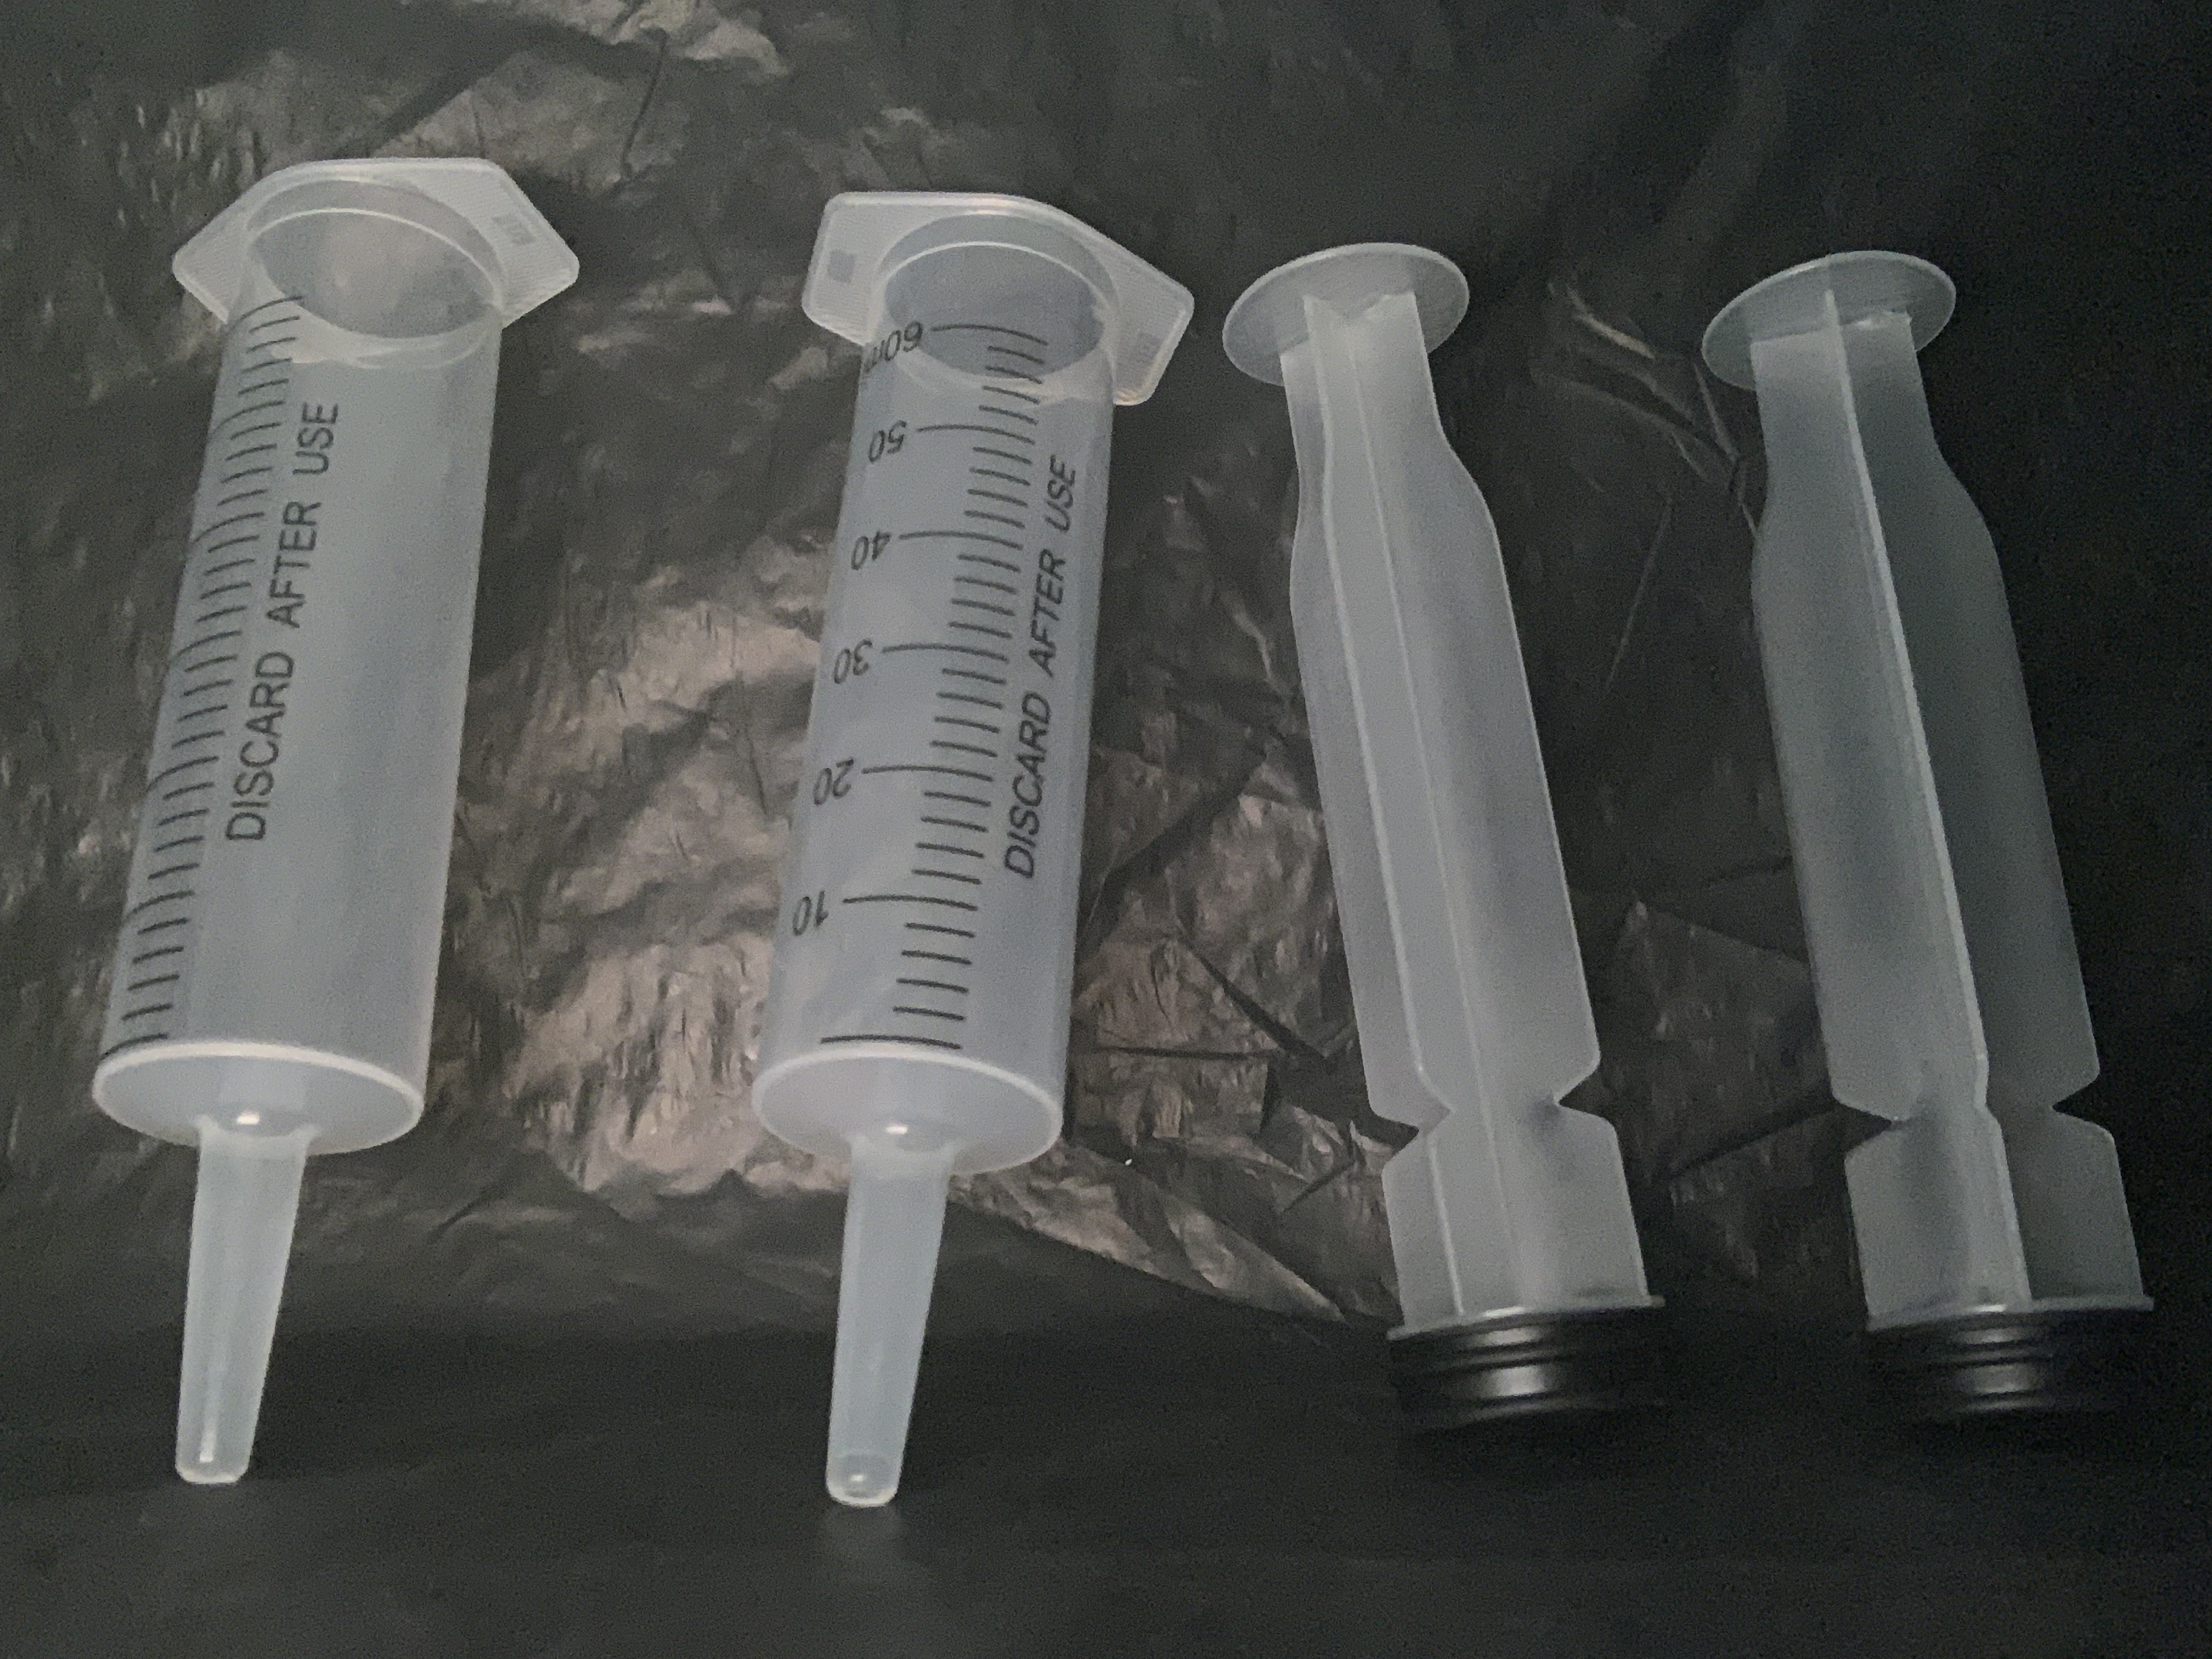plunger: (1695, 235, 2175, 1450), (1217, 237, 1681, 1460)
syringe: (80, 146, 583, 1481), (742, 183, 1200, 1514)
